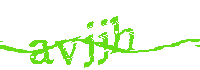a: (27, 41, 54, 66)
h: (110, 14, 140, 56)
j: (82, 21, 98, 68), (96, 19, 112, 66)
v: (55, 34, 82, 65)
